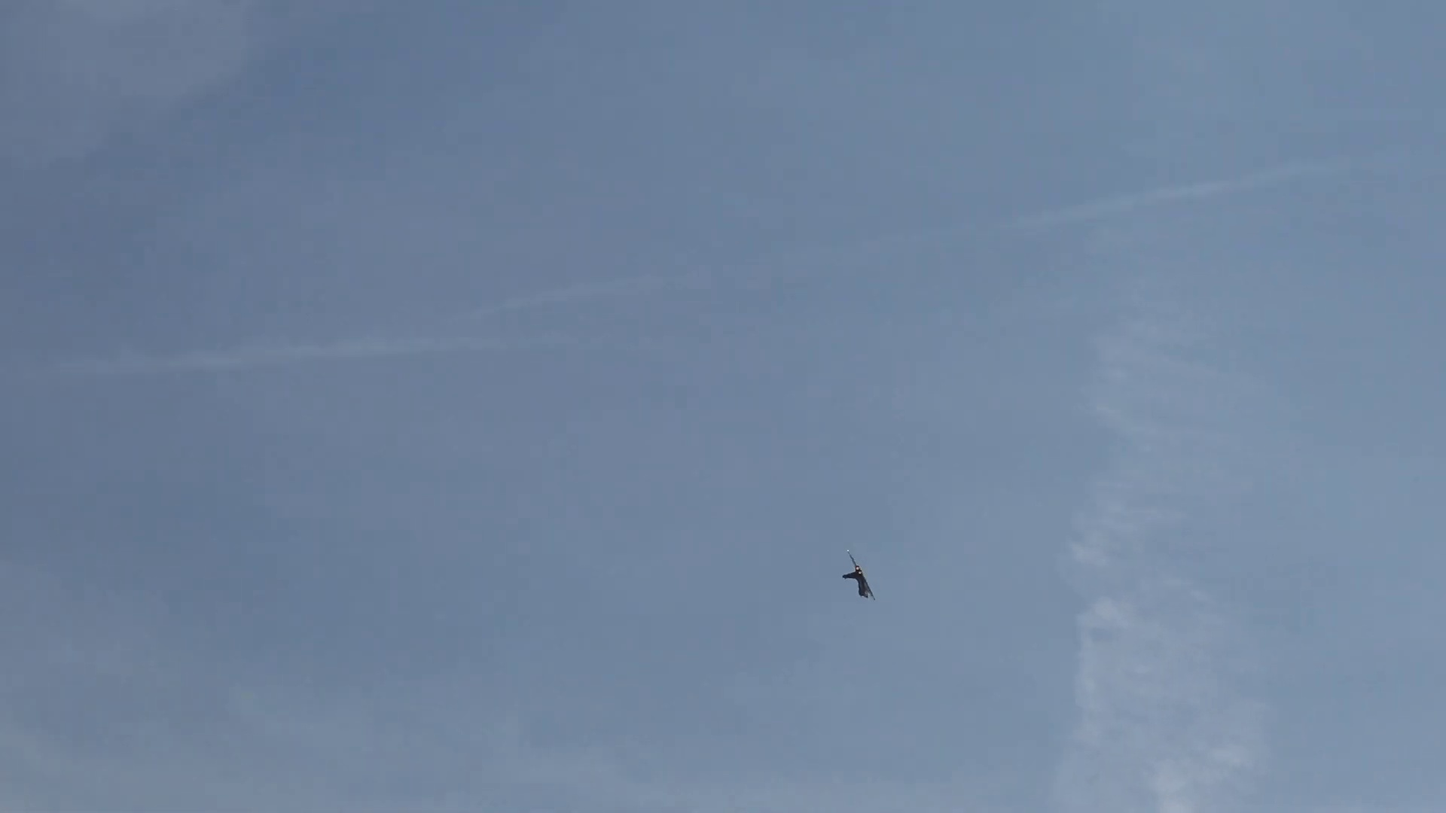Rafale: (842, 547, 879, 602)
